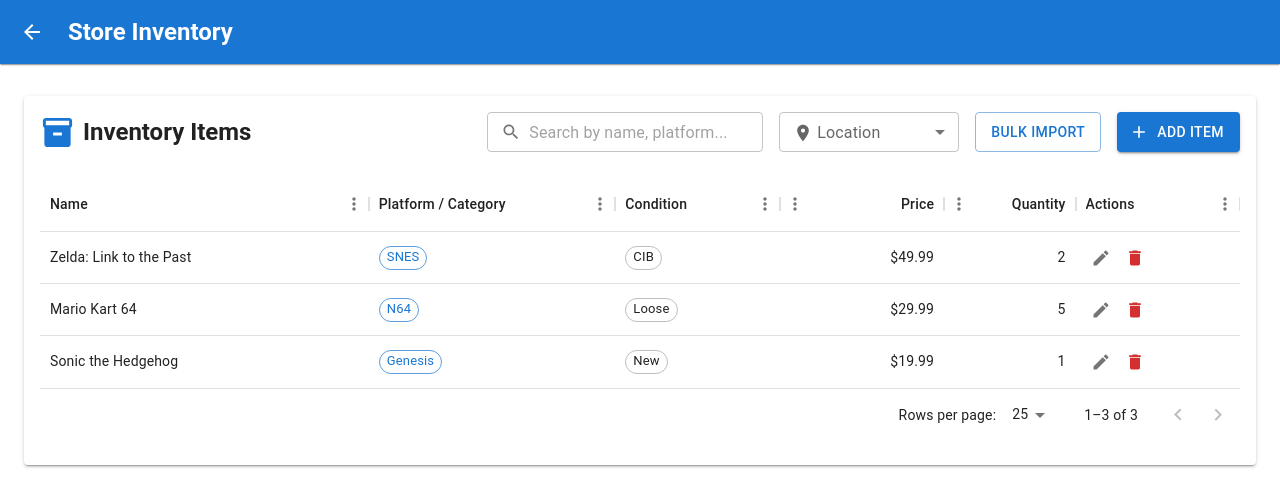
Test case: InventoryPage › Search filtering › filters rows by platform/category (case-insensitive)
Type "n64" into the field with placeholder "Search by name, platform...". click: (646, 132)
box: [529, 112, 763, 152]
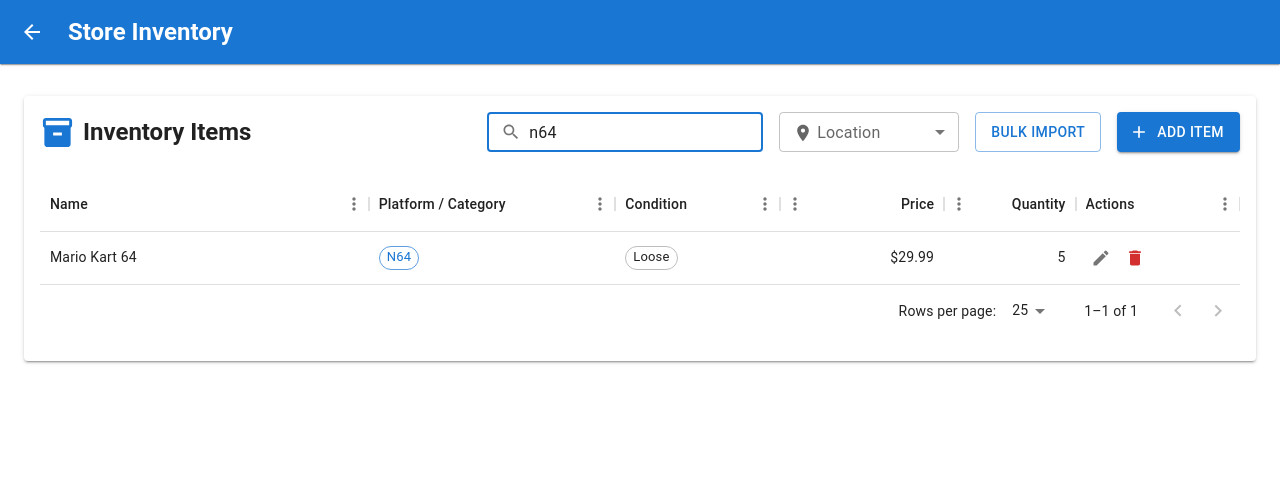
Expected: the text "Mario Kart 64" is shown, [50, 248, 137, 268]
Result: the text "Zelda: Link to the Past" is gone
Result: the text "Sonic the Hedgehog" is gone
